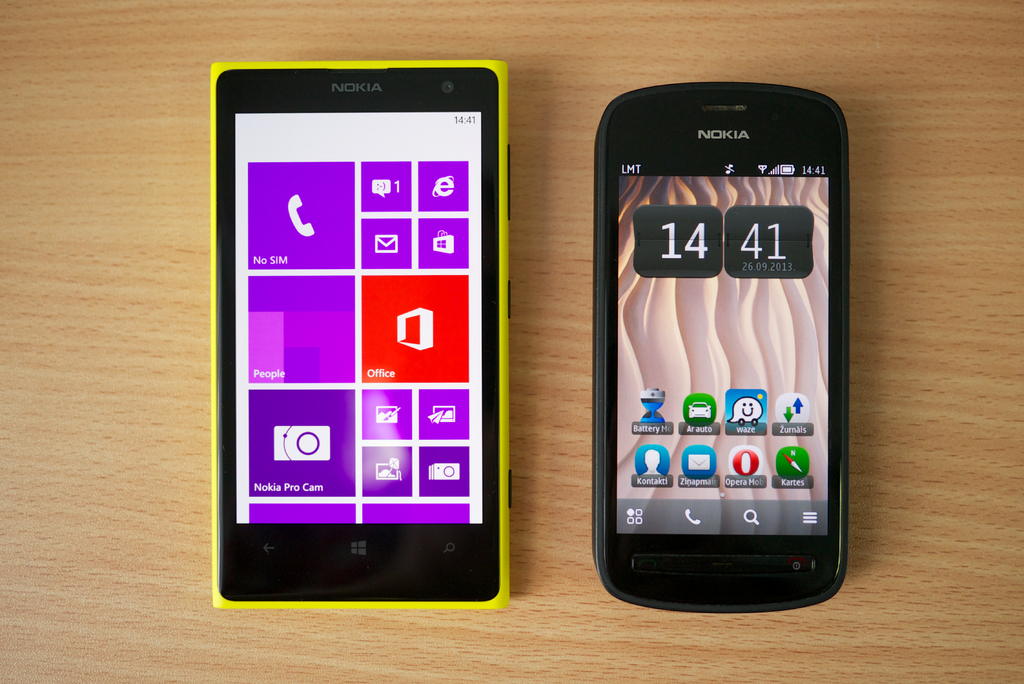Mobile-phone: (210, 59, 511, 609), (593, 81, 849, 614)
